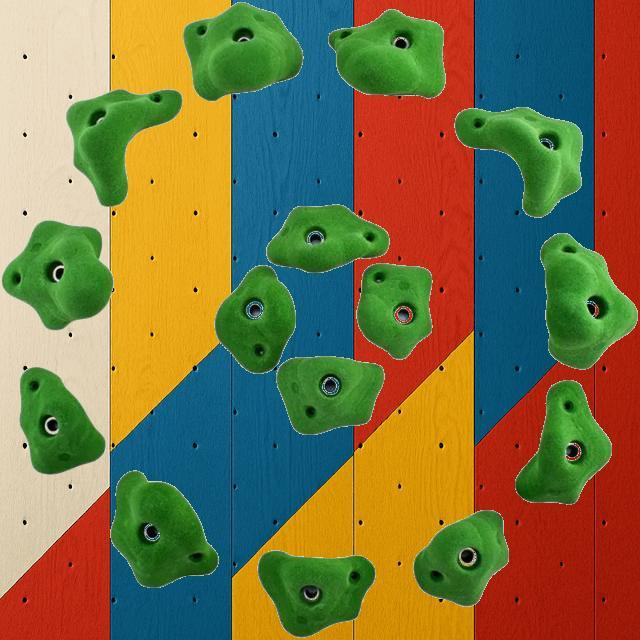Jug: (453, 105, 582, 217), (66, 87, 182, 207), (539, 231, 637, 369), (110, 470, 218, 588), (1, 218, 113, 330), (514, 378, 612, 504), (182, 1, 302, 101), (328, 8, 447, 98), (257, 550, 375, 636), (18, 366, 106, 474), (413, 509, 509, 606), (214, 264, 296, 374), (276, 354, 384, 434), (266, 204, 390, 272), (356, 263, 432, 359)
